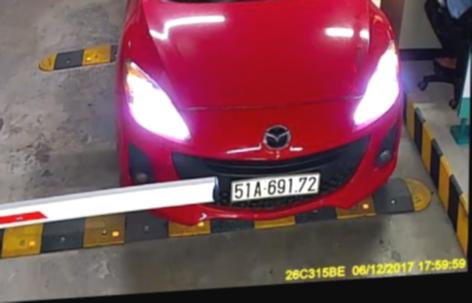License_Plate: (227, 169, 323, 209)
